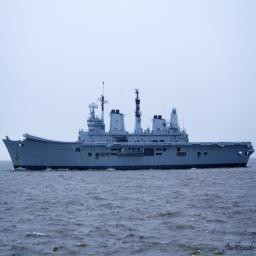Portanaves: (3, 81, 256, 173)
